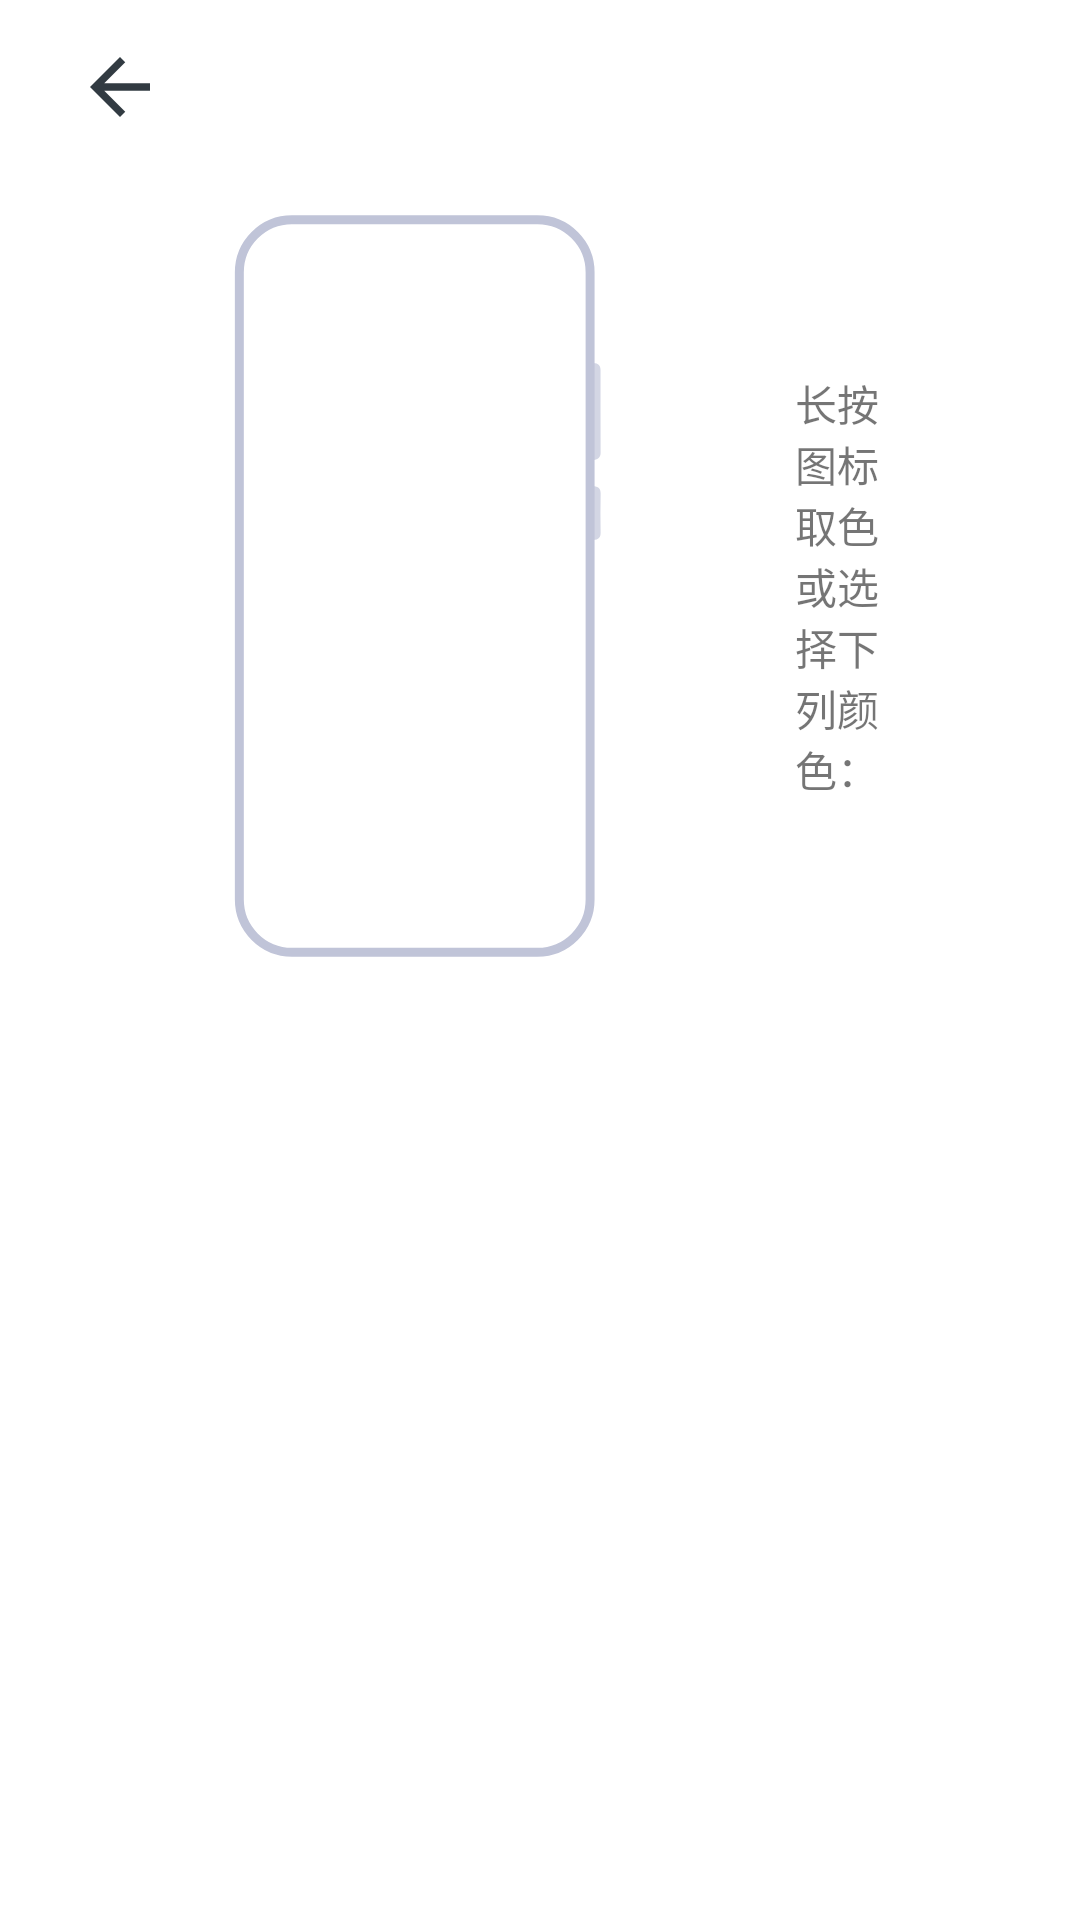

Named icons in this screenshot (1080 × 1920) and their bounding boxes, (left=x1, top=y1, right=x2, bottom=y2):
ab back: (left=90, top=57, right=150, bottom=117)
